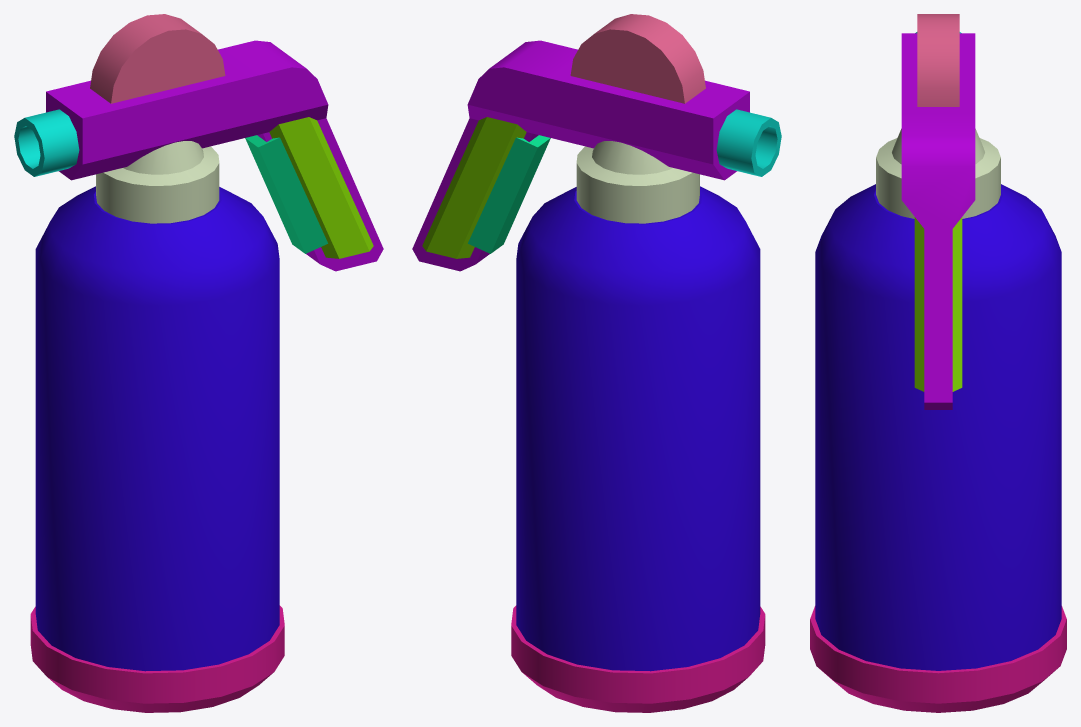
The model's file is fire_extinguisher.glb.
3 views of the same model, side by side, from view 1: azimuth 30°, elevation 25°; view 2: azimuth 150°, elevation 25°; view 3: azimuth 270°, elevation 25° (orthographic).
Visible parts, largest first — view 1: Cylinder, Cube, Cylinder.001, Cylinder.003, Cylinder.002, Cube.002, Cube.001, Cylinder.004; view 2: Cylinder, Cube, Cylinder.001, Cylinder.003, Cylinder.002, Cube.002, Cube.001, Cylinder.004; view 3: Cylinder, Cube, Cylinder.001, Cylinder.003, Cylinder.002, Cube.002.
Part boxes in pixels (x1,y1,x2,y2): Cylinder: (35,186,279,671); Cube: (46,40,383,271); Cylinder.001: (30,605,284,712); Cylinder.003: (90,14,225,103); Cylinder.002: (96,141,219,223); Cube.002: (269,117,373,258); Cube.001: (245,135,327,253); Cylinder.004: (14,109,79,176); Cylinder: (516,186,760,671); Cube: (412,40,749,271); Cylinder.001: (511,605,765,712); Cylinder.003: (570,14,705,103); Cylinder.002: (576,141,699,223); Cube.002: (422,117,526,258); Cube.001: (468,135,550,253); Cylinder.004: (716,109,781,176); Cylinder: (815,184,1061,670); Cube: (901,33,975,409); Cylinder.001: (810,606,1066,712); Cylinder.003: (917,14,959,106); Cylinder.002: (876,128,1000,218); Cube.002: (914,217,962,391).
Size of the model in its own units: 0.4262 by 0.7547 by 0.2717.
